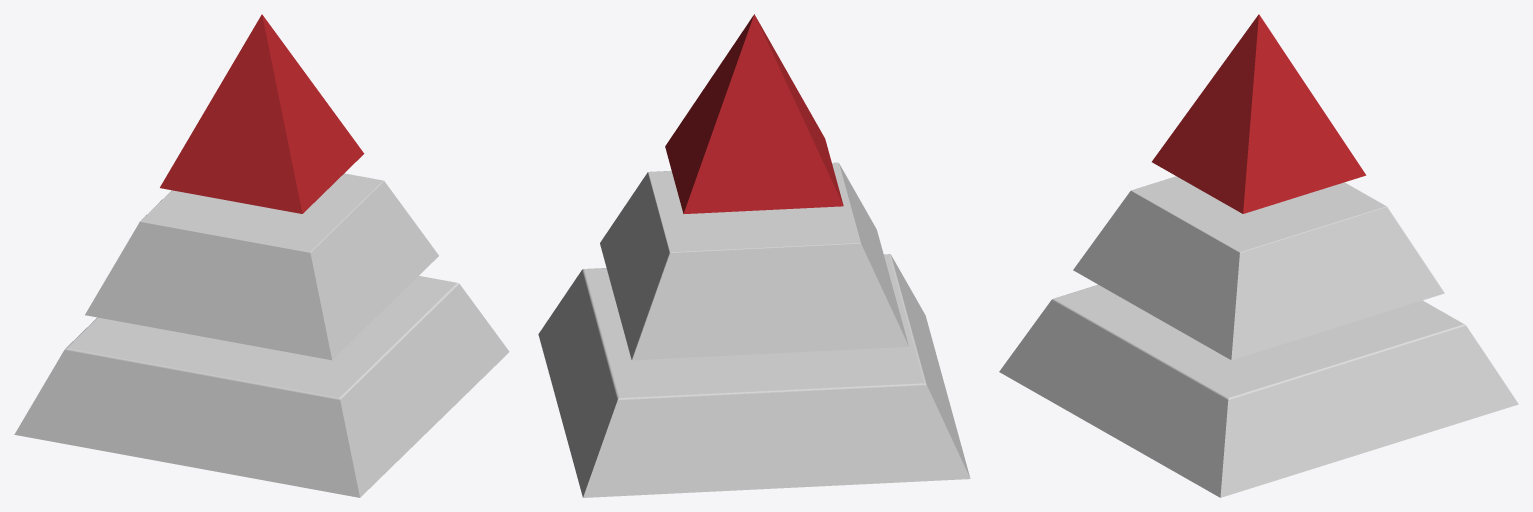
Rendered from pyramid_light.glb.
The picture shows the model from 3 angles, left to right: view 1: azimuth 30°, elevation 25°; view 2: azimuth 150°, elevation 25°; view 3: azimuth 270°, elevation 25°; orthographic projection. The views are drawn at different scales.
Parts seen in each view (by area): view 1: Cone002; view 2: Cone002; view 3: Cone002.
Part boxes in pixels (x1,y1,x2,y2): Cone002: [14, 14, 509, 497]; Cone002: [538, 14, 970, 497]; Cone002: [999, 14, 1518, 497].
Bounding box in the file's own units: 1.94 × 1.54 × 1.94.
